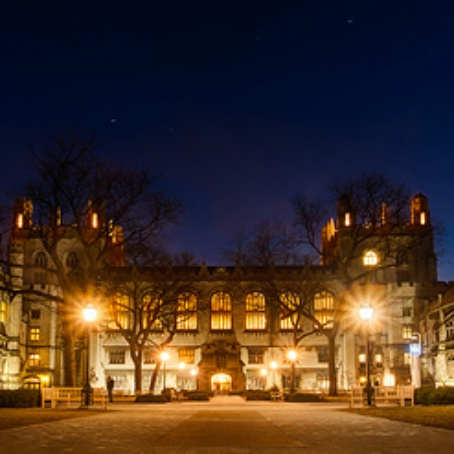building: (13, 206, 432, 388)
sky: (1, 1, 442, 242)
tree: (232, 186, 433, 412), (1, 157, 161, 425), (107, 255, 206, 399)
